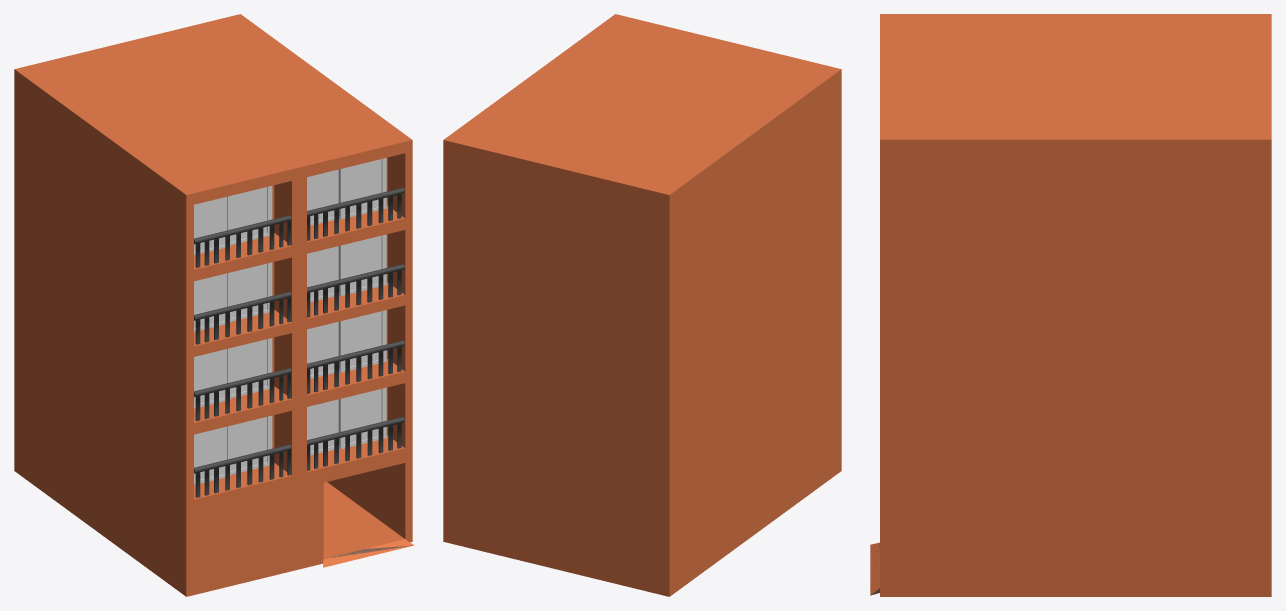
The model's file is hotelInicial.fbx.
3 renders of one model, left to right at view 1: azimuth 30°, elevation 25°; view 2: azimuth 150°, elevation 25°; view 3: azimuth 270°, elevation 25°, orthographic. The views are drawn at different scales.
Parts seen in each view (by area): view 1: Cube, varanda; view 2: Cube; view 3: Cube.
Boxes of the visible parts, x1,y1,x2,y2 form: Cube: (14,14,414,596); varanda: (194,158,404,497); Cube: (443,14,841,596); Cube: (870,14,1271,596).
Bounding box in the file's own units: 1259 × 2141 × 1700.
